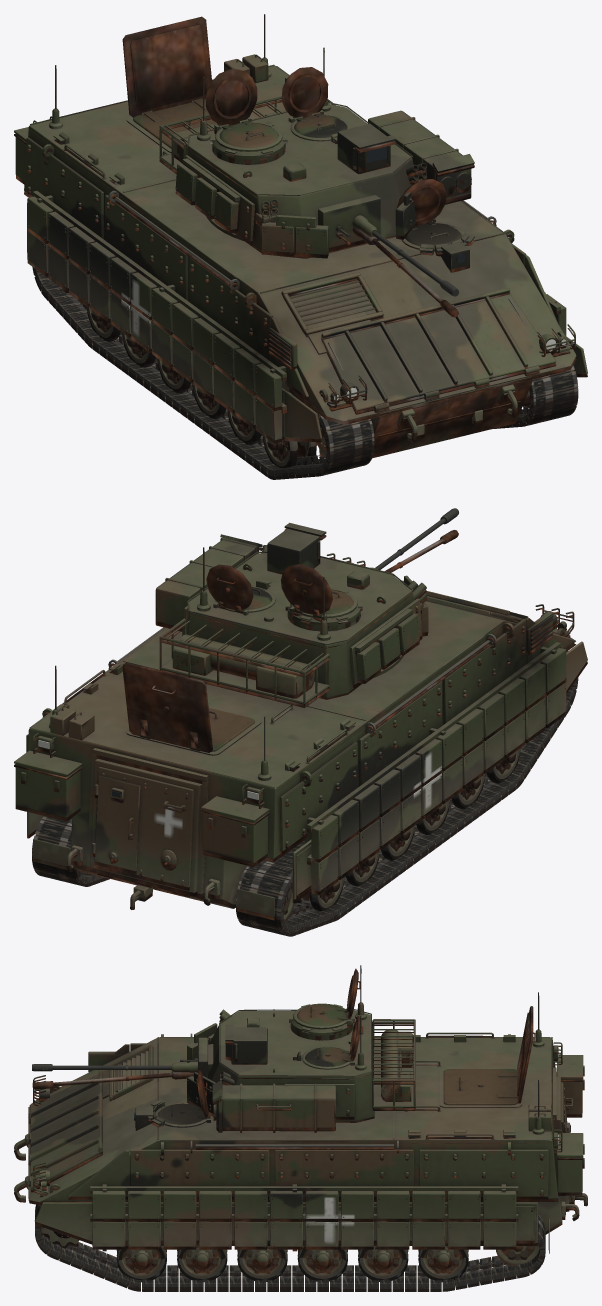
The model's file is bradley_ua.glb.
The picture shows the model from 3 angles, top to bottom: view 1: azimuth 30°, elevation 25°; view 2: azimuth 150°, elevation 25°; view 3: azimuth 270°, elevation 25°; orthographic projection. The views are drawn at different scales.
Visible parts, largest first — view 1: hull_geo, hull_wreck, turret_geo, era_hull, turret_wreck, track_R, era_turret, tow_launcher_geo, hatch_lid_cargo_geo, track_L, hatch_lid_commander_geo, gun_geo (+2 smaller); view 2: hull_geo, hull_wreck, turret_geo, era_hull, ramp_geo, turret_wreck, track_R, tow_launcher_geo, era_turret, hatch_lid_cargo_geo, track_L, gun_geo; view 3: hull_geo, era_hull, hull_wreck, turret_geo, track_L, tow_launcher_geo, turret_wreck, hatch_lid_cargo_geo, gun_geo, roadwheel_L3_geo, hatch_lid_commander_geo, roadwheel_L6_geo (+8 smaller).
Part boxes in pixels (x1,y1,x2,y2): hull_geo: [14, 14, 587, 438]; hull_wreck: [14, 16, 587, 479]; turret_geo: [159, 47, 426, 257]; era_hull: [27, 191, 566, 440]; turret_wreck: [159, 51, 474, 317]; track_R: [33, 267, 374, 476]; era_turret: [175, 158, 416, 254]; tow_launcher_geo: [368, 110, 474, 199]; hatch_lid_cargo_geo: [133, 98, 219, 148]; track_L: [517, 365, 578, 423]; hatch_lid_commander_geo: [218, 118, 278, 147]; gun_geo: [336, 215, 458, 296]; hull_geo: [14, 553, 587, 916]; hull_wreck: [14, 556, 587, 936]; turret_geo: [159, 522, 426, 704]; era_hull: [304, 642, 566, 891]; ramp_geo: [90, 759, 202, 892]; turret_wreck: [155, 528, 458, 707]; track_R: [235, 651, 577, 933]; tow_launcher_geo: [155, 534, 262, 627]; era_turret: [355, 580, 428, 680]; hatch_lid_cargo_geo: [140, 708, 254, 751]; track_L: [32, 816, 103, 883]; gun_geo: [370, 508, 458, 570]; hull_geo: [14, 992, 587, 1249]; era_hull: [90, 1184, 518, 1246]; hull_wreck: [14, 996, 587, 1291]; turret_geo: [194, 965, 415, 1120]; track_L: [35, 1204, 545, 1288]; tow_launcher_geo: [212, 1080, 335, 1129]; turret_wreck: [32, 968, 415, 1132]; hatch_lid_cargo_geo: [443, 1069, 518, 1105]; gun_geo: [32, 1044, 213, 1073]; roadwheel_L3_geo: [237, 1246, 287, 1278]; hatch_lid_commander_geo: [297, 1004, 349, 1025]; roadwheel_L6_geo: [418, 1246, 468, 1278].
Size of what is drawn, in the model's own units: 3.51 by 3.38 by 6.95.
6 materials, 4 textured.
